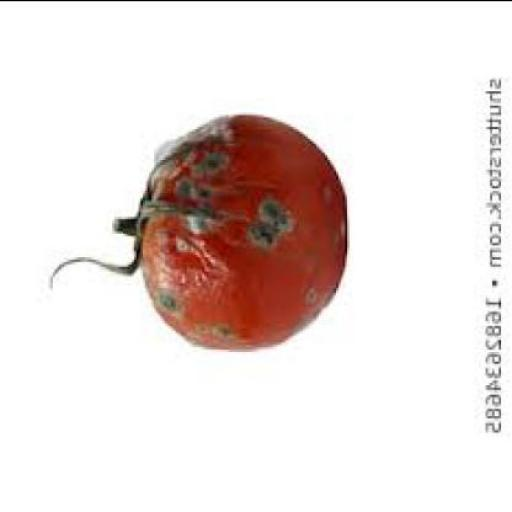biodegradable: (46, 110, 343, 350)
